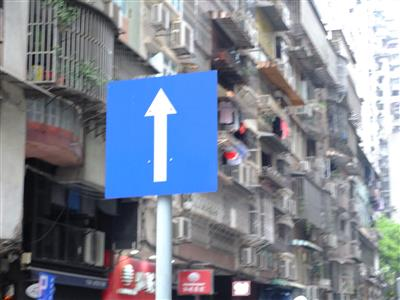oneway: (95, 63, 230, 202)
